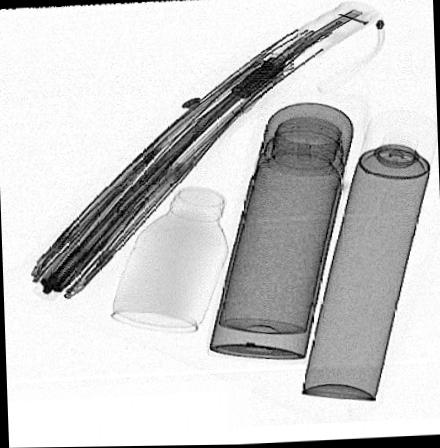Sprayer: (298, 107, 436, 403)
